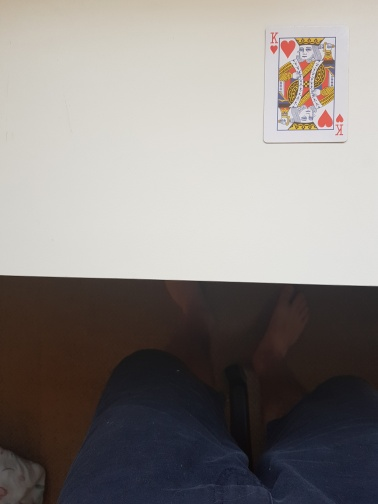king: (261, 27, 349, 145)
